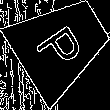P_NE: (32, 15, 91, 73)
